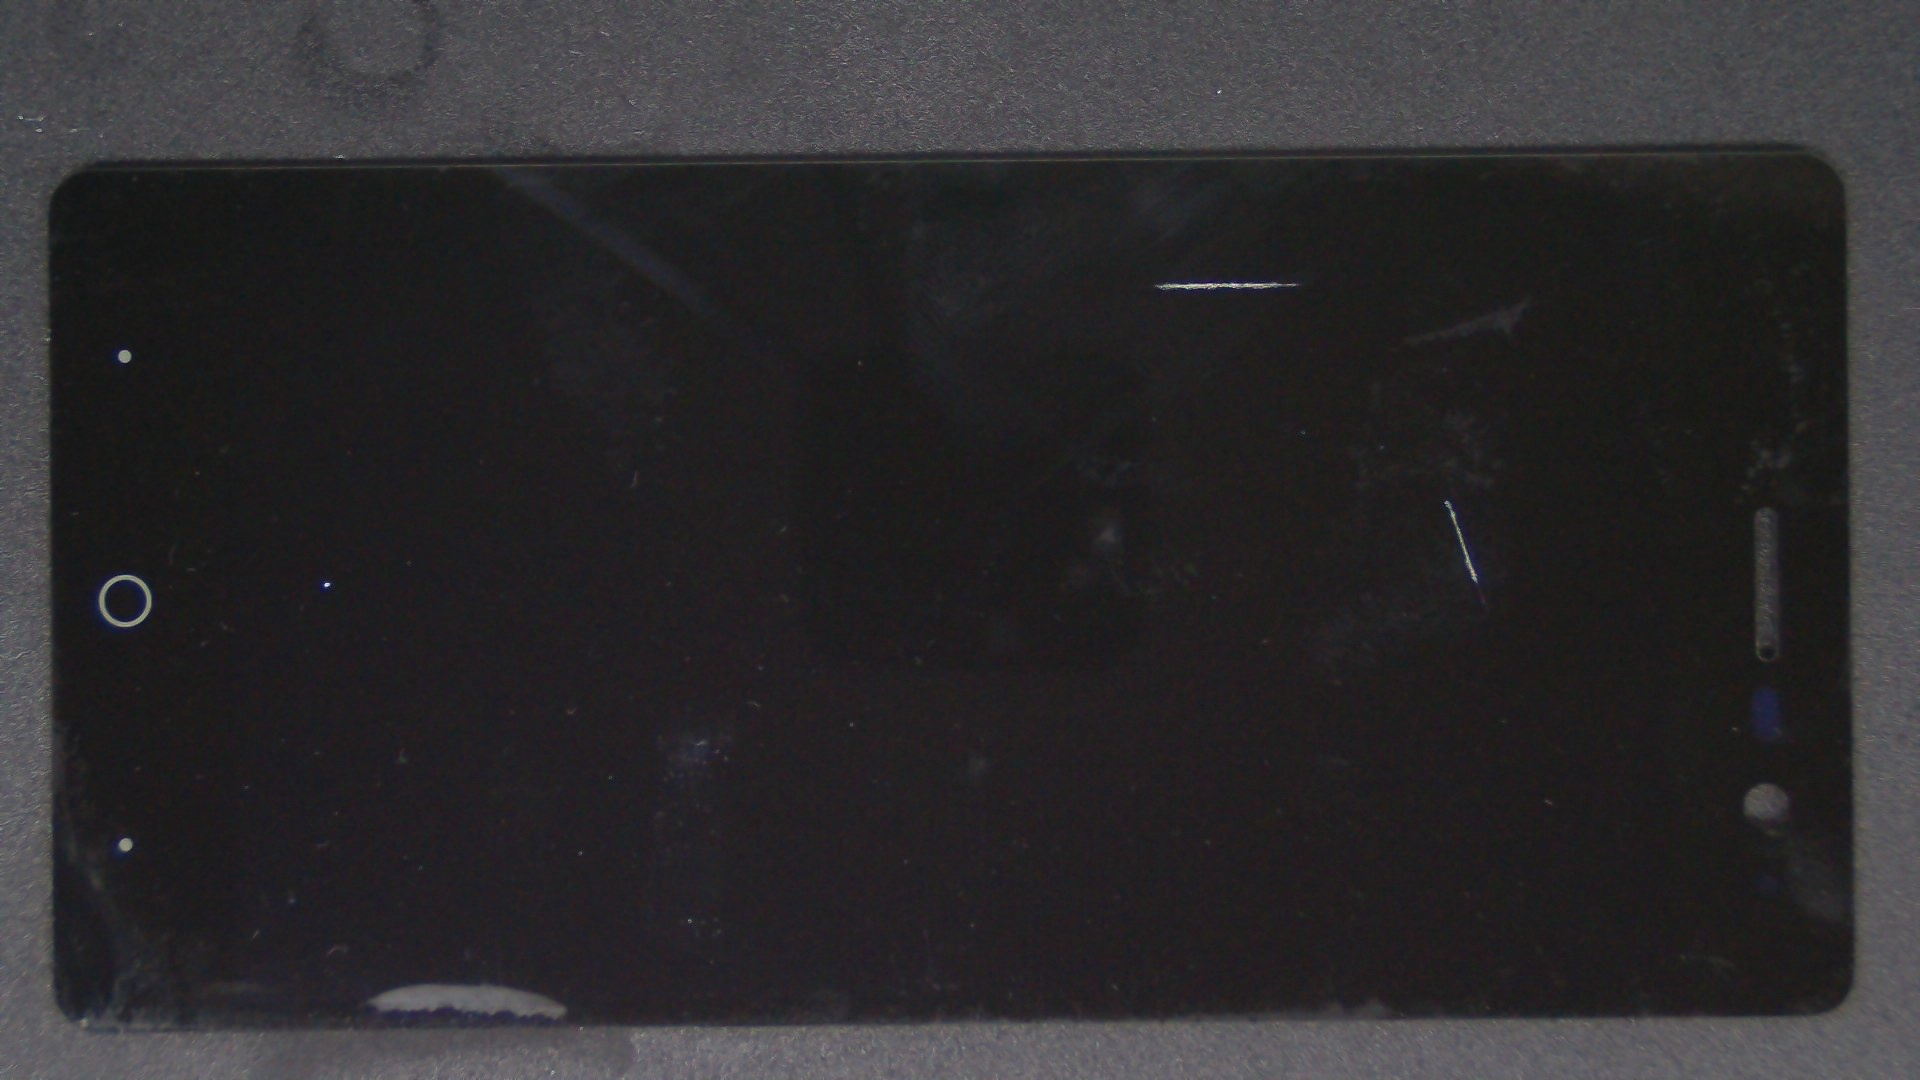oil: (724, 248, 1920, 749), (584, 140, 1750, 422), (162, 290, 485, 873)
